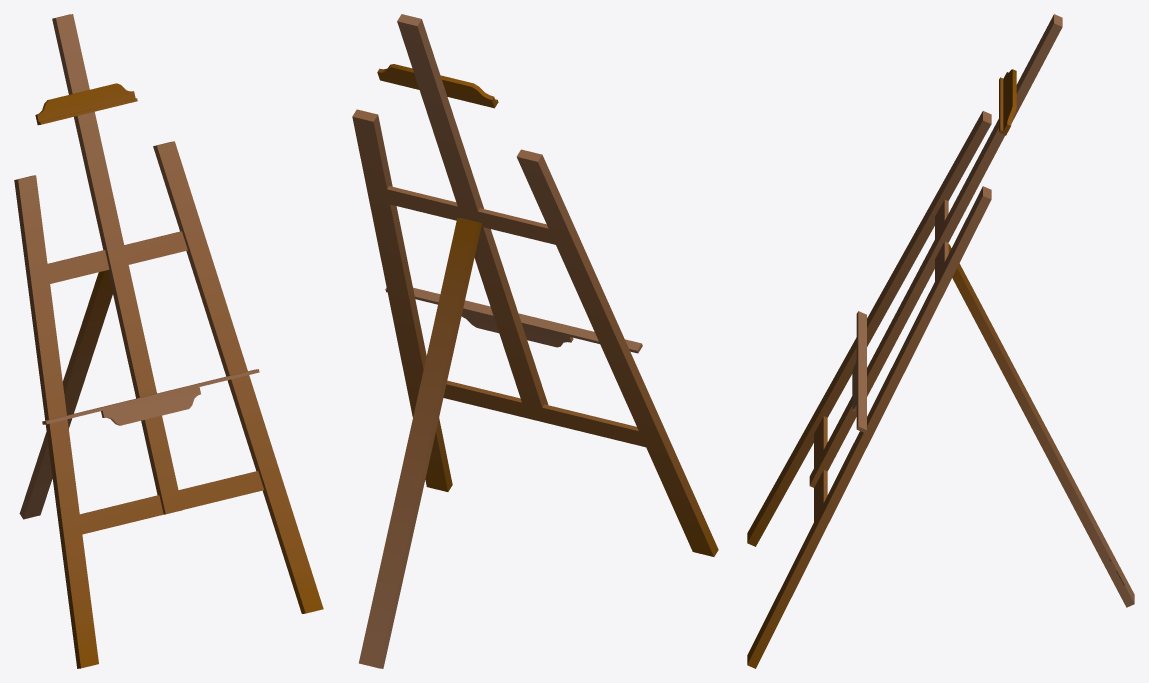
The model's file is Easel.fbx.
The picture shows the model from 3 angles, left to right: view 1: azimuth 30°, elevation 25°; view 2: azimuth 150°, elevation 25°; view 3: azimuth 270°, elevation 25°; orthographic projection. The views are drawn at different scales.
Visible parts, largest first — view 1: Plane.003, Plane.005, Plane.004; view 2: Plane.003, Plane.004, Plane.005; view 3: Plane.003, Plane.004, Plane.005.
Boxes of the visible parts, box(x1,y1,x2,y2) form: Plane.003: box(14, 14, 323, 668); Plane.005: box(35, 83, 259, 425); Plane.004: box(19, 270, 112, 519); Plane.003: box(352, 14, 718, 556); Plane.004: box(359, 217, 481, 668); Plane.005: box(377, 64, 642, 353); Plane.003: box(747, 14, 1062, 668); Plane.004: box(948, 244, 1134, 607); Plane.005: box(852, 69, 1016, 433).
Size of the model in its own units: 74.18 by 153 by 92.21.
